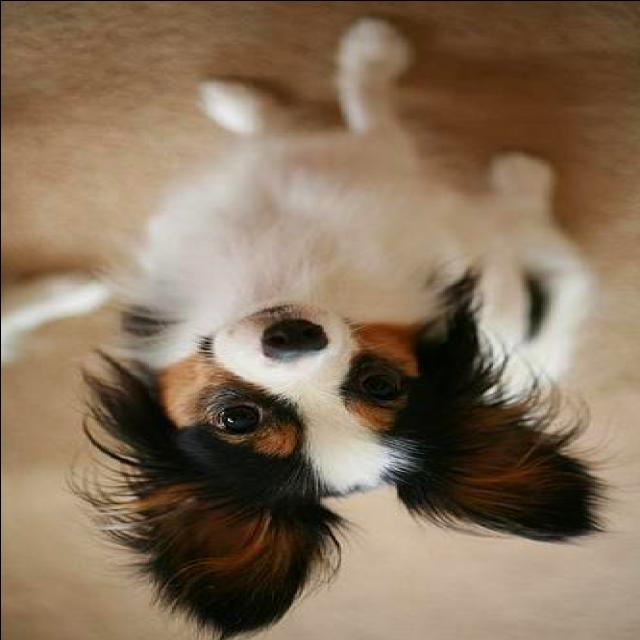papillon: (61, 15, 628, 639)
